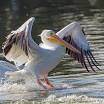pelican: (3, 17, 102, 92)
